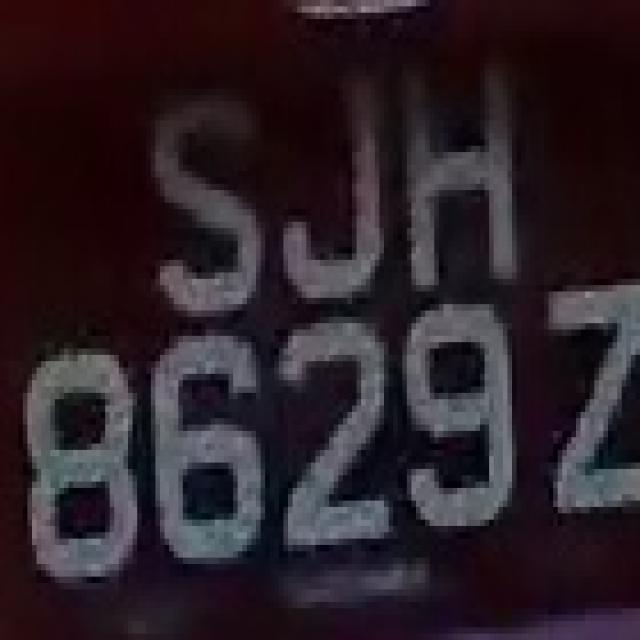2: (274, 298, 407, 570)
6: (142, 323, 279, 570)
8: (5, 342, 160, 583)
9: (388, 272, 526, 538)
J: (261, 70, 393, 304)
S: (137, 82, 265, 310)
Z: (539, 260, 640, 532)
